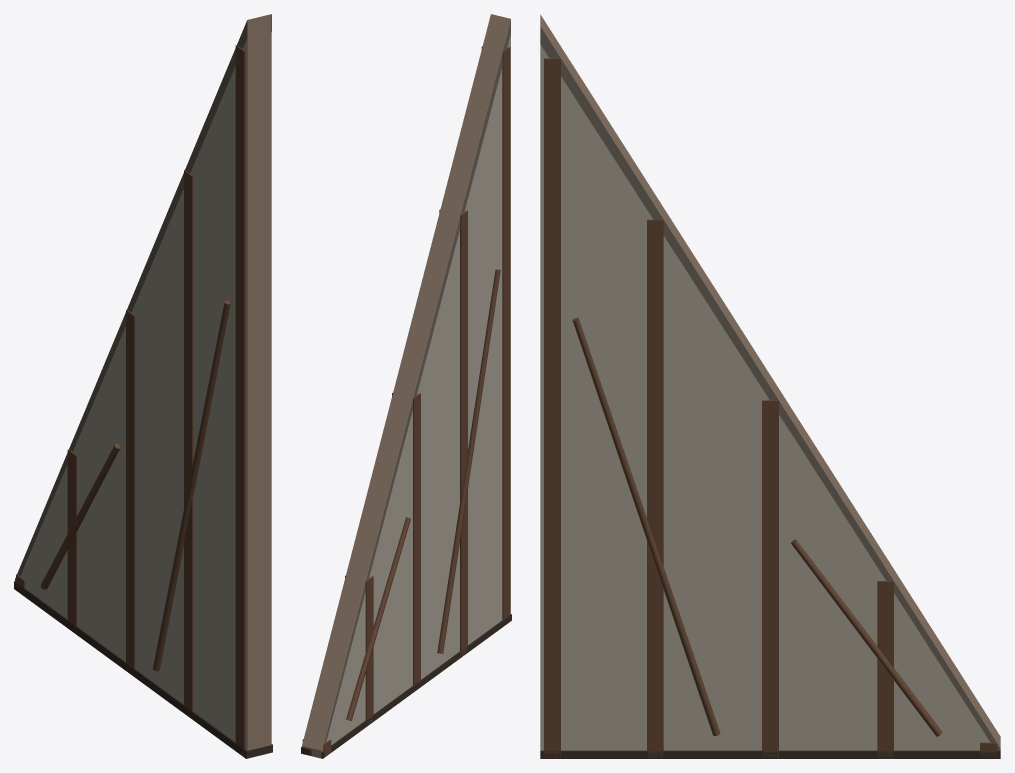
File: Wall_GableFill_60_Right.glb
3 views of the same model, side by side, from view 1: azimuth 30°, elevation 25°; view 2: azimuth 150°, elevation 25°; view 3: azimuth 270°, elevation 25° (orthographic). The views are drawn at different scales.
Visible parts, largest first — view 1: _MeshInstance3D_3970, _MeshInstance3D_3976, _MeshInstance3D_3975, _MeshInstance3D_3974, _MeshInstance3D_3979, _MeshInstance3D_3971, _MeshInstance3D_3973, _MeshInstance3D_3977; view 2: _MeshInstance3D_3970, _MeshInstance3D_3976, _MeshInstance3D_3975, _MeshInstance3D_3979, _MeshInstance3D_3974, _MeshInstance3D_3971, _MeshInstance3D_3977, _MeshInstance3D_3973; view 3: _MeshInstance3D_3970, _MeshInstance3D_3976, _MeshInstance3D_3975, _MeshInstance3D_3974, _MeshInstance3D_3971, _MeshInstance3D_3980, _MeshInstance3D_3973, _MeshInstance3D_3978.
Part boxes in pixels (bbox=[...]): _MeshInstance3D_3970: bbox=[15, 14, 271, 750]; _MeshInstance3D_3976: bbox=[235, 45, 245, 757]; _MeshInstance3D_3975: bbox=[184, 170, 193, 715]; _MeshInstance3D_3974: bbox=[126, 310, 135, 672]; _MeshInstance3D_3979: bbox=[152, 300, 230, 671]; _MeshInstance3D_3971: bbox=[14, 581, 272, 758]; _MeshInstance3D_3973: bbox=[67, 449, 77, 631]; _MeshInstance3D_3977: bbox=[40, 443, 120, 589]; _MeshInstance3D_3970: bbox=[302, 14, 510, 758]; _MeshInstance3D_3976: bbox=[481, 46, 510, 620]; _MeshInstance3D_3975: bbox=[439, 210, 467, 657]; _MeshInstance3D_3979: bbox=[437, 269, 500, 653]; _MeshInstance3D_3974: bbox=[392, 393, 420, 685]; _MeshInstance3D_3971: bbox=[301, 614, 511, 758]; _MeshInstance3D_3977: bbox=[346, 517, 410, 720]; _MeshInstance3D_3973: bbox=[345, 575, 373, 725]; _MeshInstance3D_3970: bbox=[540, 14, 1000, 750]; _MeshInstance3D_3976: bbox=[544, 58, 560, 758]; _MeshInstance3D_3975: bbox=[647, 219, 663, 758]; _MeshInstance3D_3974: bbox=[762, 400, 778, 758]; _MeshInstance3D_3971: bbox=[540, 750, 1000, 758]; _MeshInstance3D_3980: bbox=[572, 317, 720, 736]; _MeshInstance3D_3973: bbox=[877, 581, 893, 758]; _MeshInstance3D_3978: bbox=[791, 539, 942, 736].
Bounding box in the file's own units: 0.2607 × 5.27 × 3.
